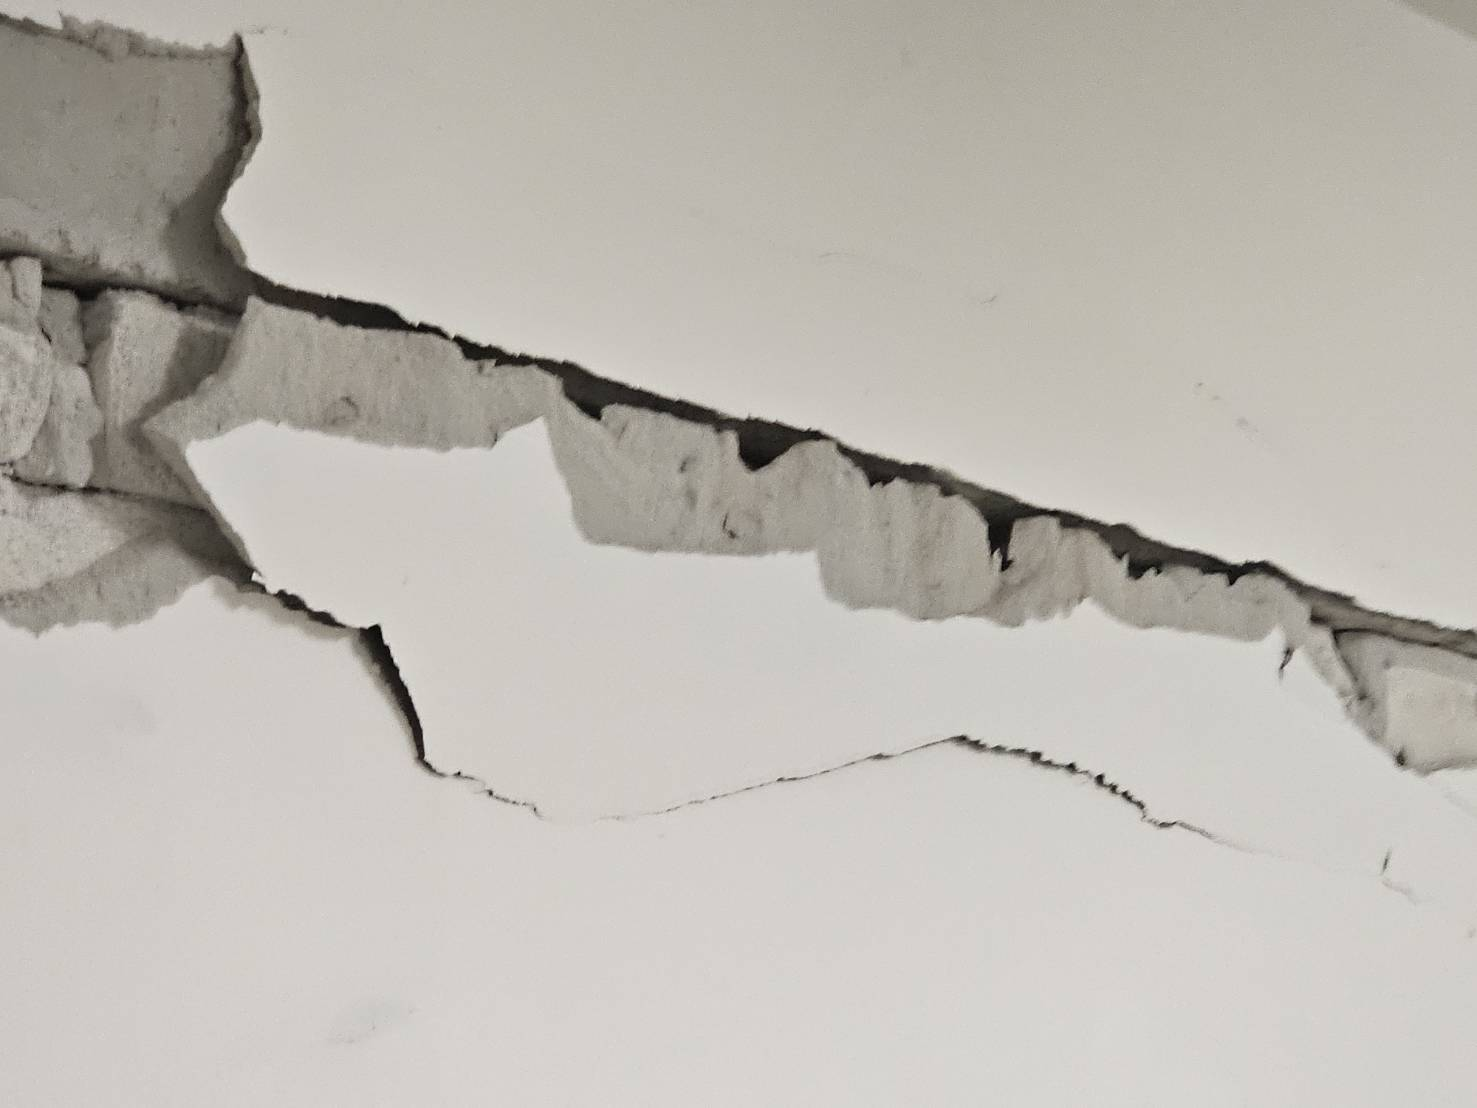Medium: (86, 20, 1426, 867)
